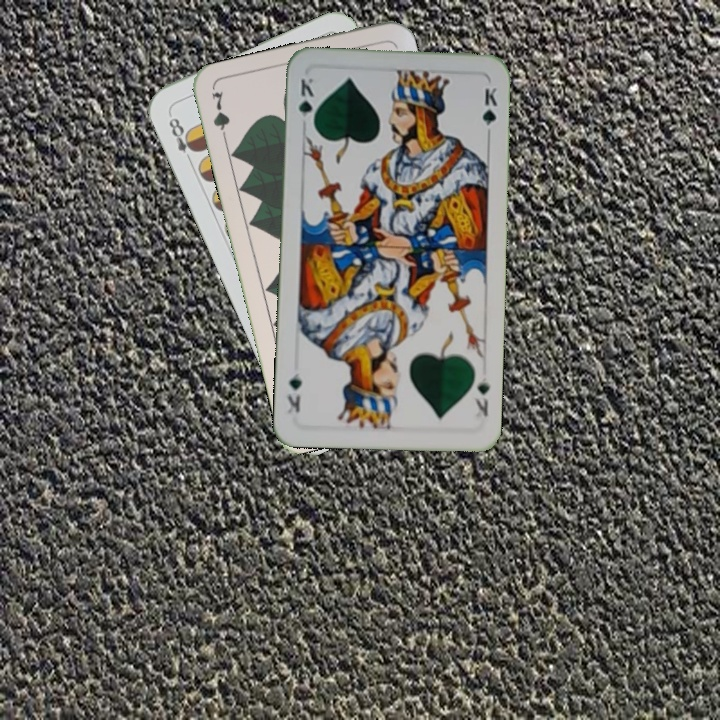E8: (164, 113, 200, 166)
G7: (207, 87, 232, 147)
GK: (295, 74, 317, 131), (471, 373, 492, 419)
